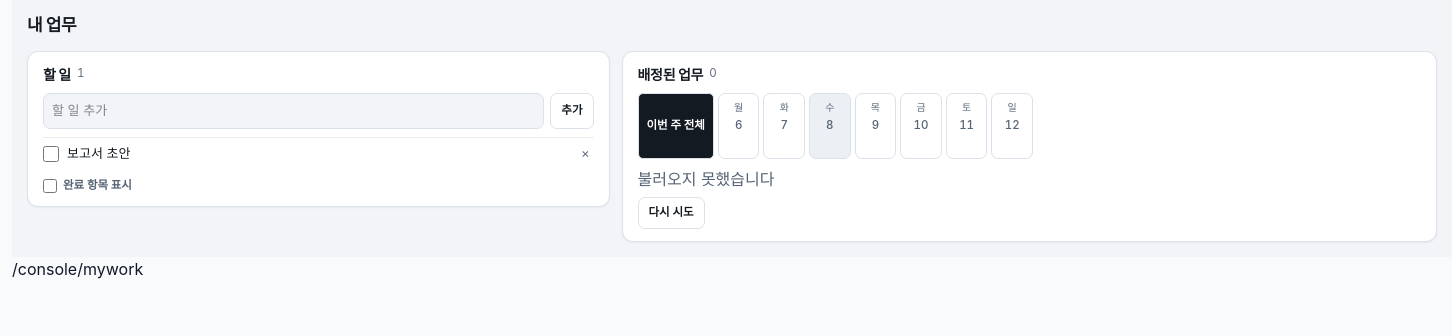
MyWorkBody › surfaces an inbox error with retry
Click the button "다시 시도": (671, 213) [638, 197, 704, 229]
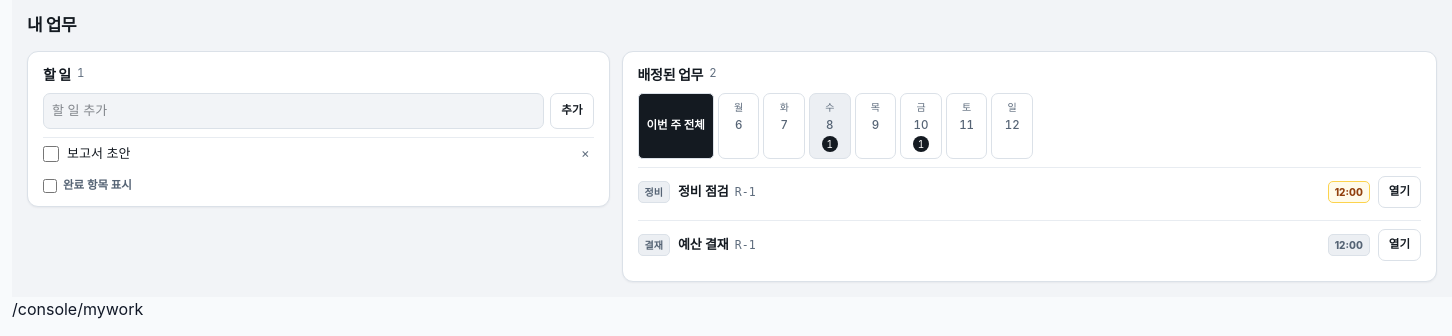
Result: the text "정비 점검" is shown at [678, 182, 729, 202]
